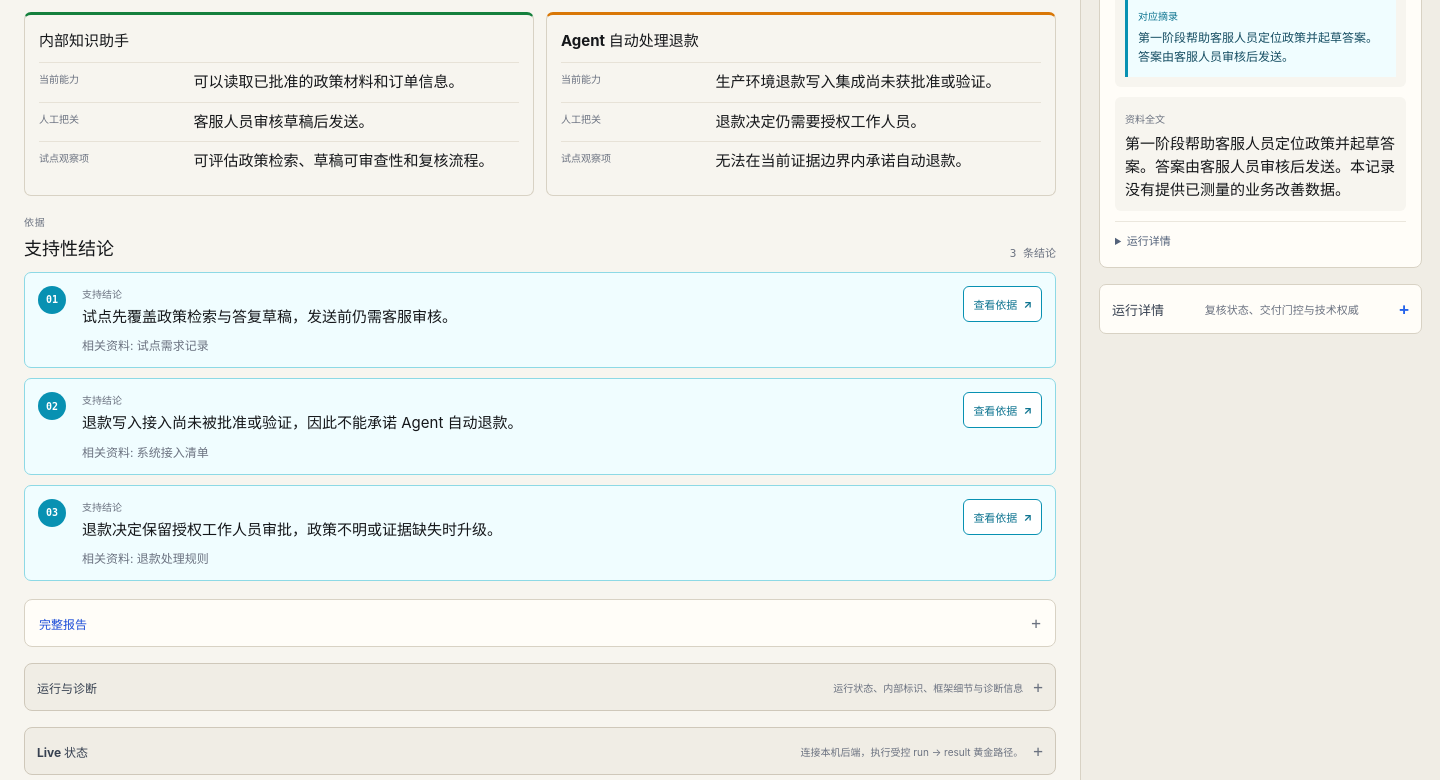
Decision Research Agent demo console › keeps the report and source panel primary while moving screen navigation into technical details
This screenshot has width=1440, height=780.
(page scrolled)
Step 1. Click the text "运行与诊断" → (67, 688), box x1=37 y1=679 x2=97 y2=696
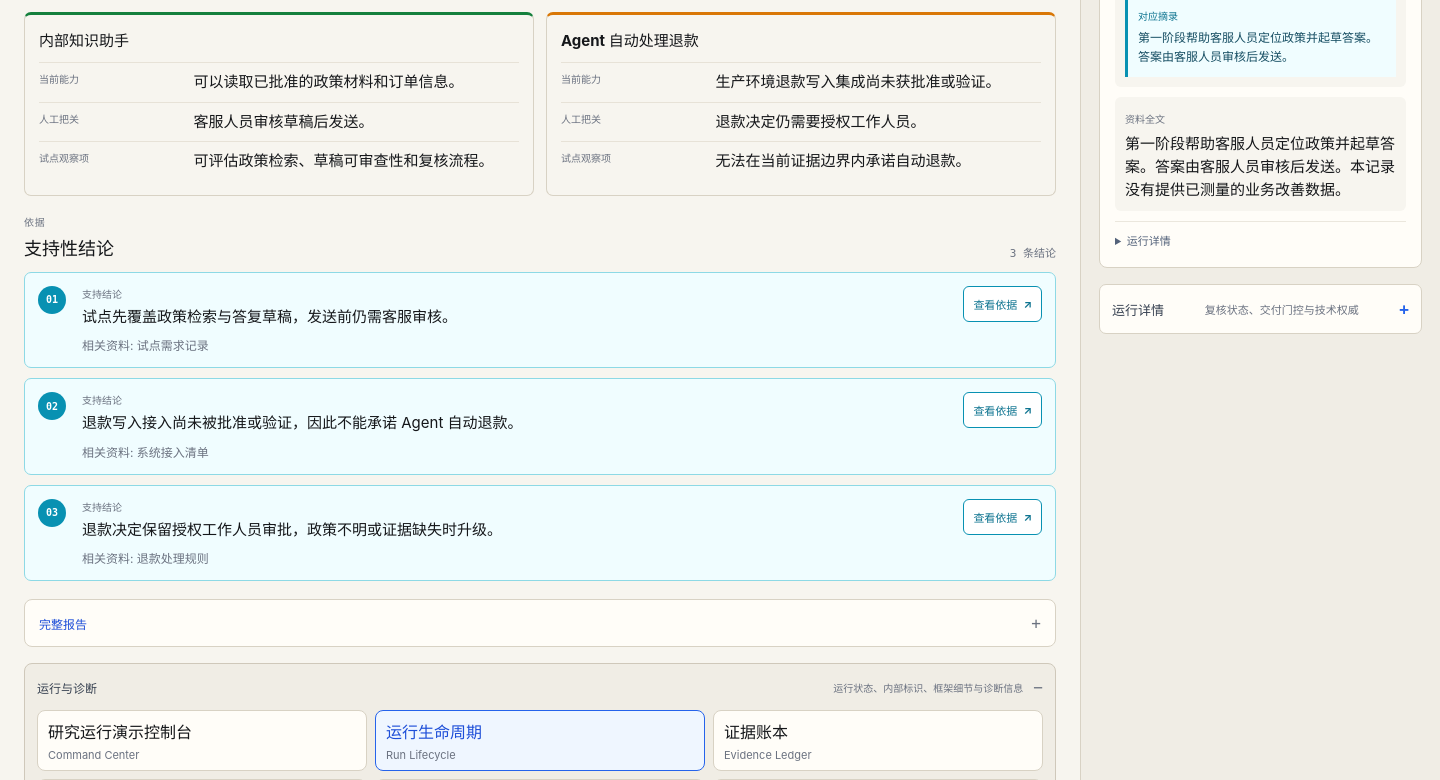
Expected: the button "研究运行演示控制台 Command Center" is shown, x1=37 y1=710 x2=367 y2=772
